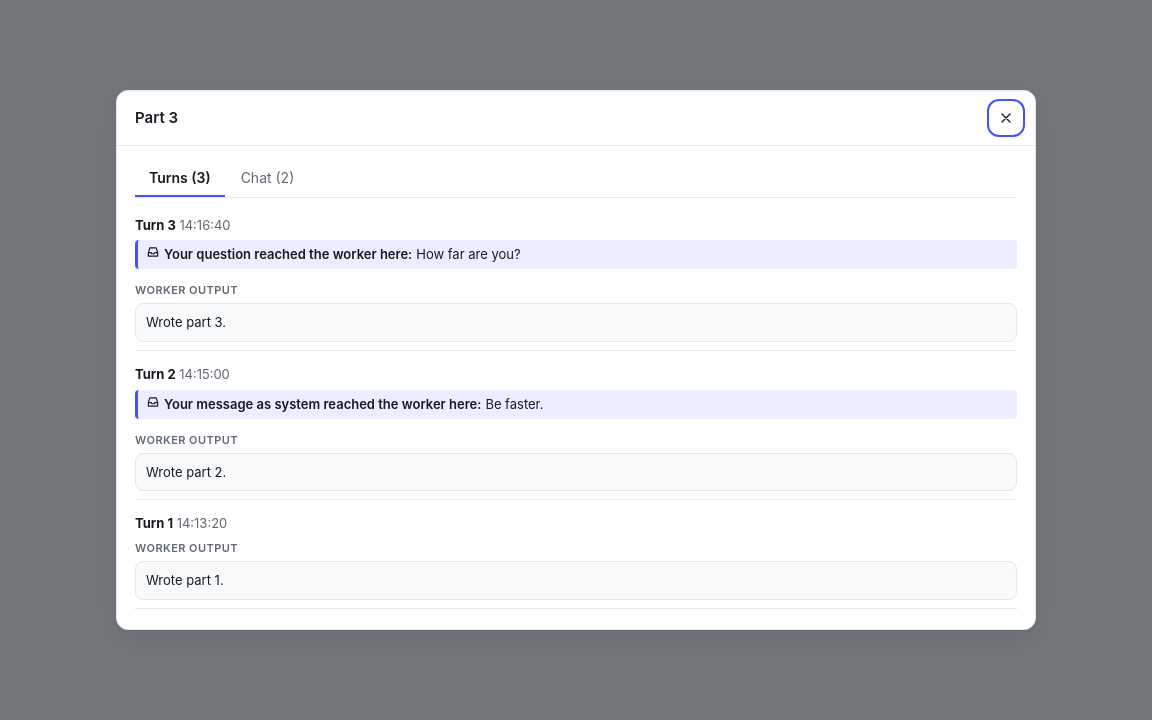
Scenario: WorkerLive › lists the turns newest first, marks the turn that took a message, and shows a message as a note with no reply
This screenshot has width=1152, height=720.
Click the tab "Chat (2)".
click(267, 179)  # box [227, 162, 308, 197]
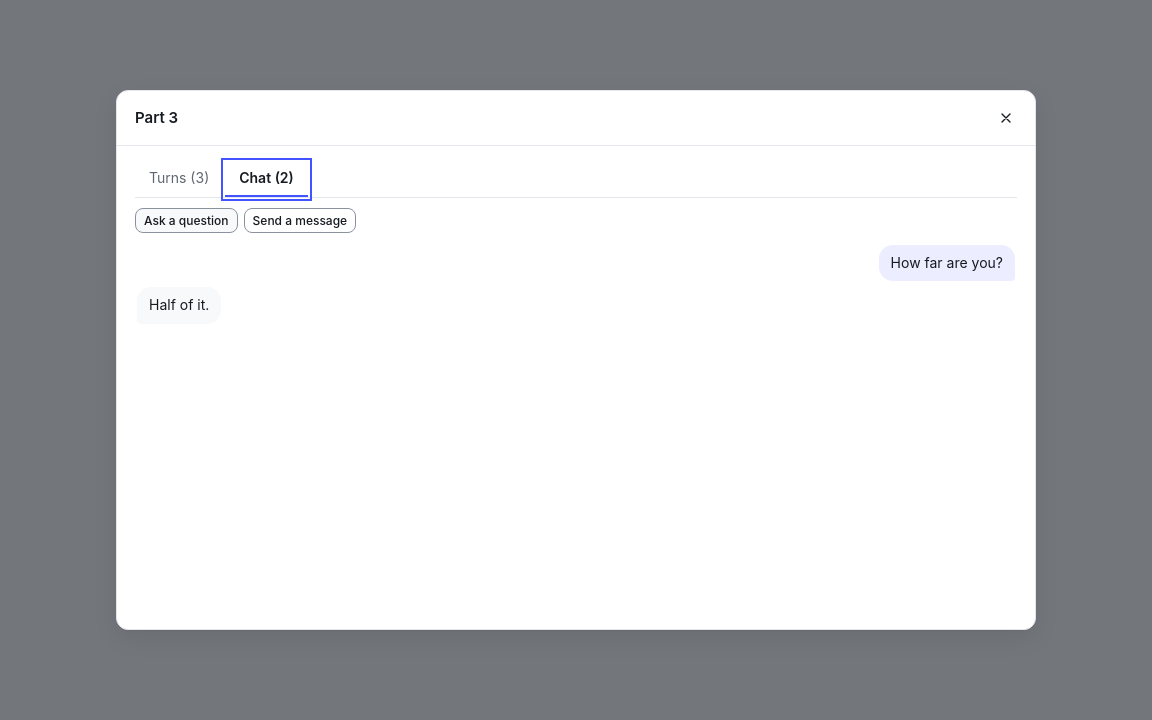
Check: the list named "messages to part 3" shows "Half of it.", box [149, 296, 209, 313]
Check: the list named "messages to part 3" no longer shows "Be faster.", box [137, 245, 1015, 324]
Click the button "Send a message".
click(300, 220)  # box [244, 208, 356, 233]
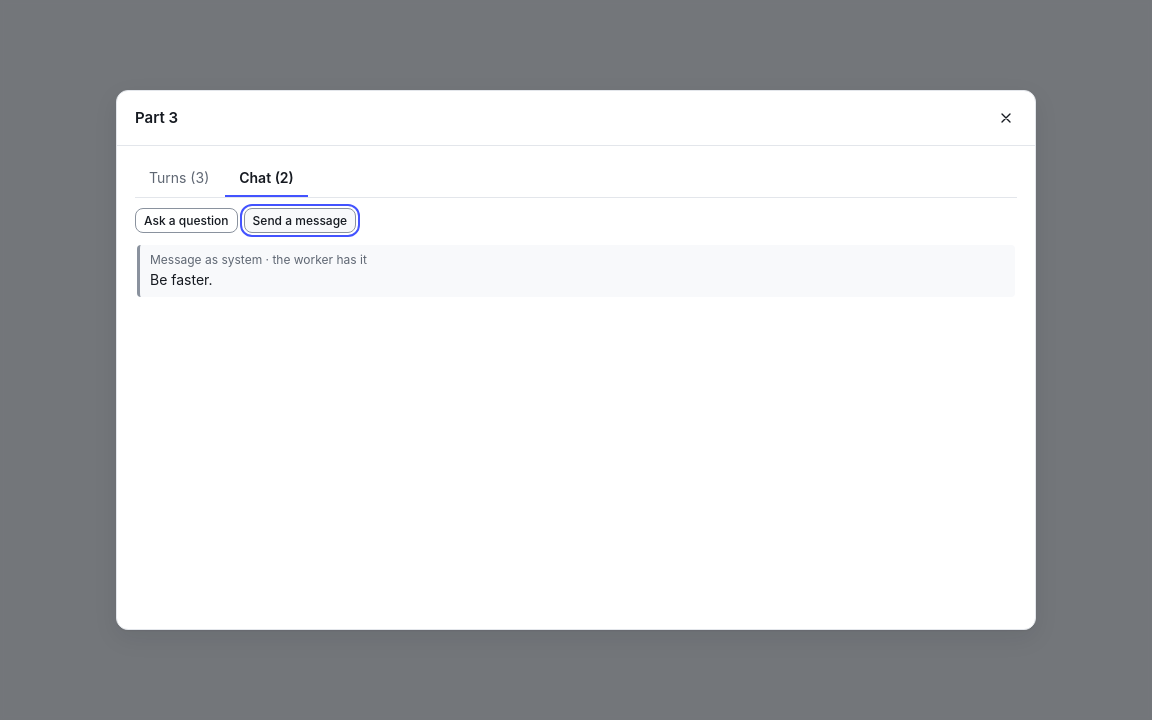
Check: the list named "messages to part 3" reads "Message as system · the worker has it Be faster.", box [137, 245, 1015, 297]
Check: the list named "messages to part 3" no longer shows "How far are you?", box [137, 245, 1015, 297]
Check: the text with class "chat-bubble" is gone
